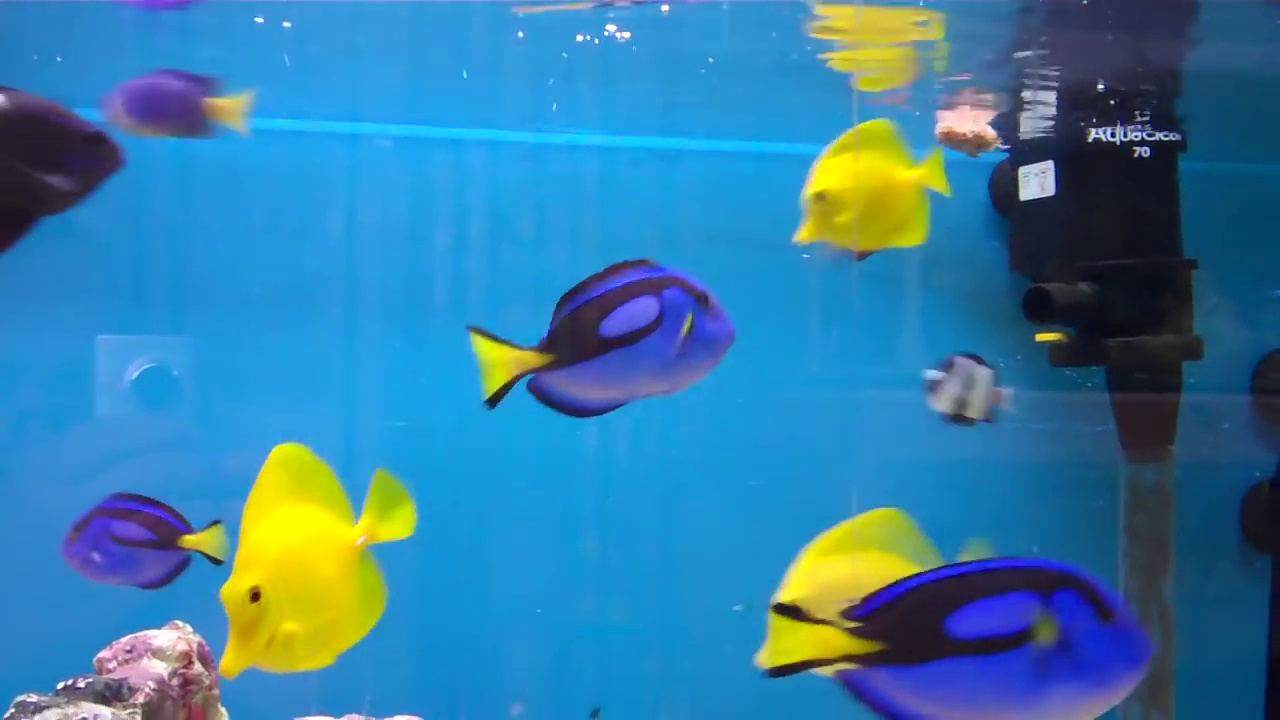blue tang surgeonfish: (744, 535, 1162, 720), (451, 256, 734, 426), (45, 480, 236, 596)
saddle butterfly fish: (205, 436, 420, 669), (756, 86, 954, 299)
